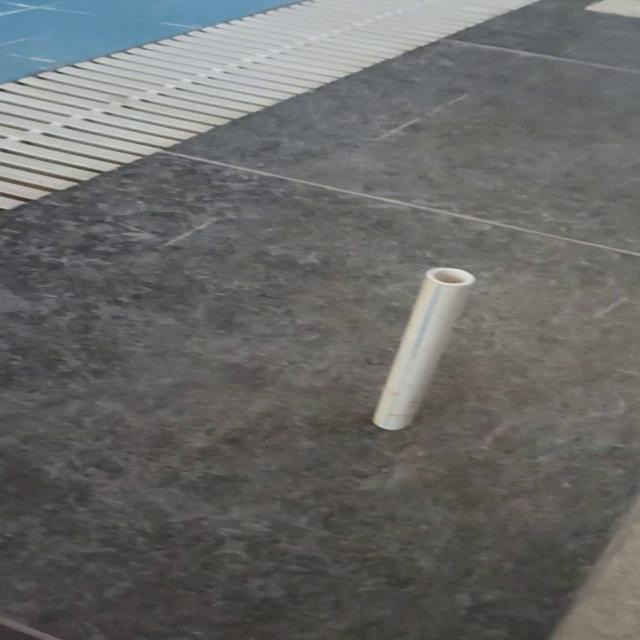Cube: (370, 266, 476, 431)
